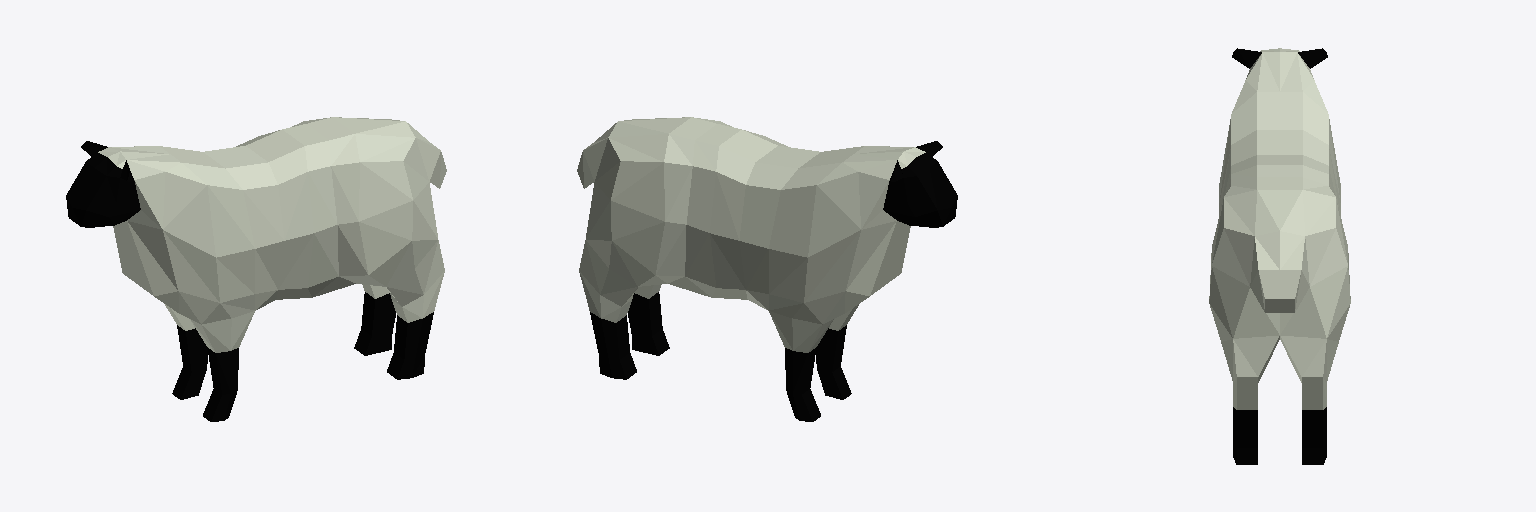
Rendered from Sheep.obj.
3 renders of one model, left to right at view 1: azimuth 30°, elevation 25°; view 2: azimuth 150°, elevation 25°; view 3: azimuth 270°, elevation 25°, orthographic.
Parts seen in each view (by area): view 1: Plane; view 2: Plane; view 3: Plane.
Boxes of the visible parts, box(x1,y1,x2,y2) form: Plane: box(66, 117, 446, 421); Plane: box(577, 117, 957, 421); Plane: box(1209, 48, 1350, 464).
Bounding box in the file's own units: 5.41 × 3.88 × 1.81.